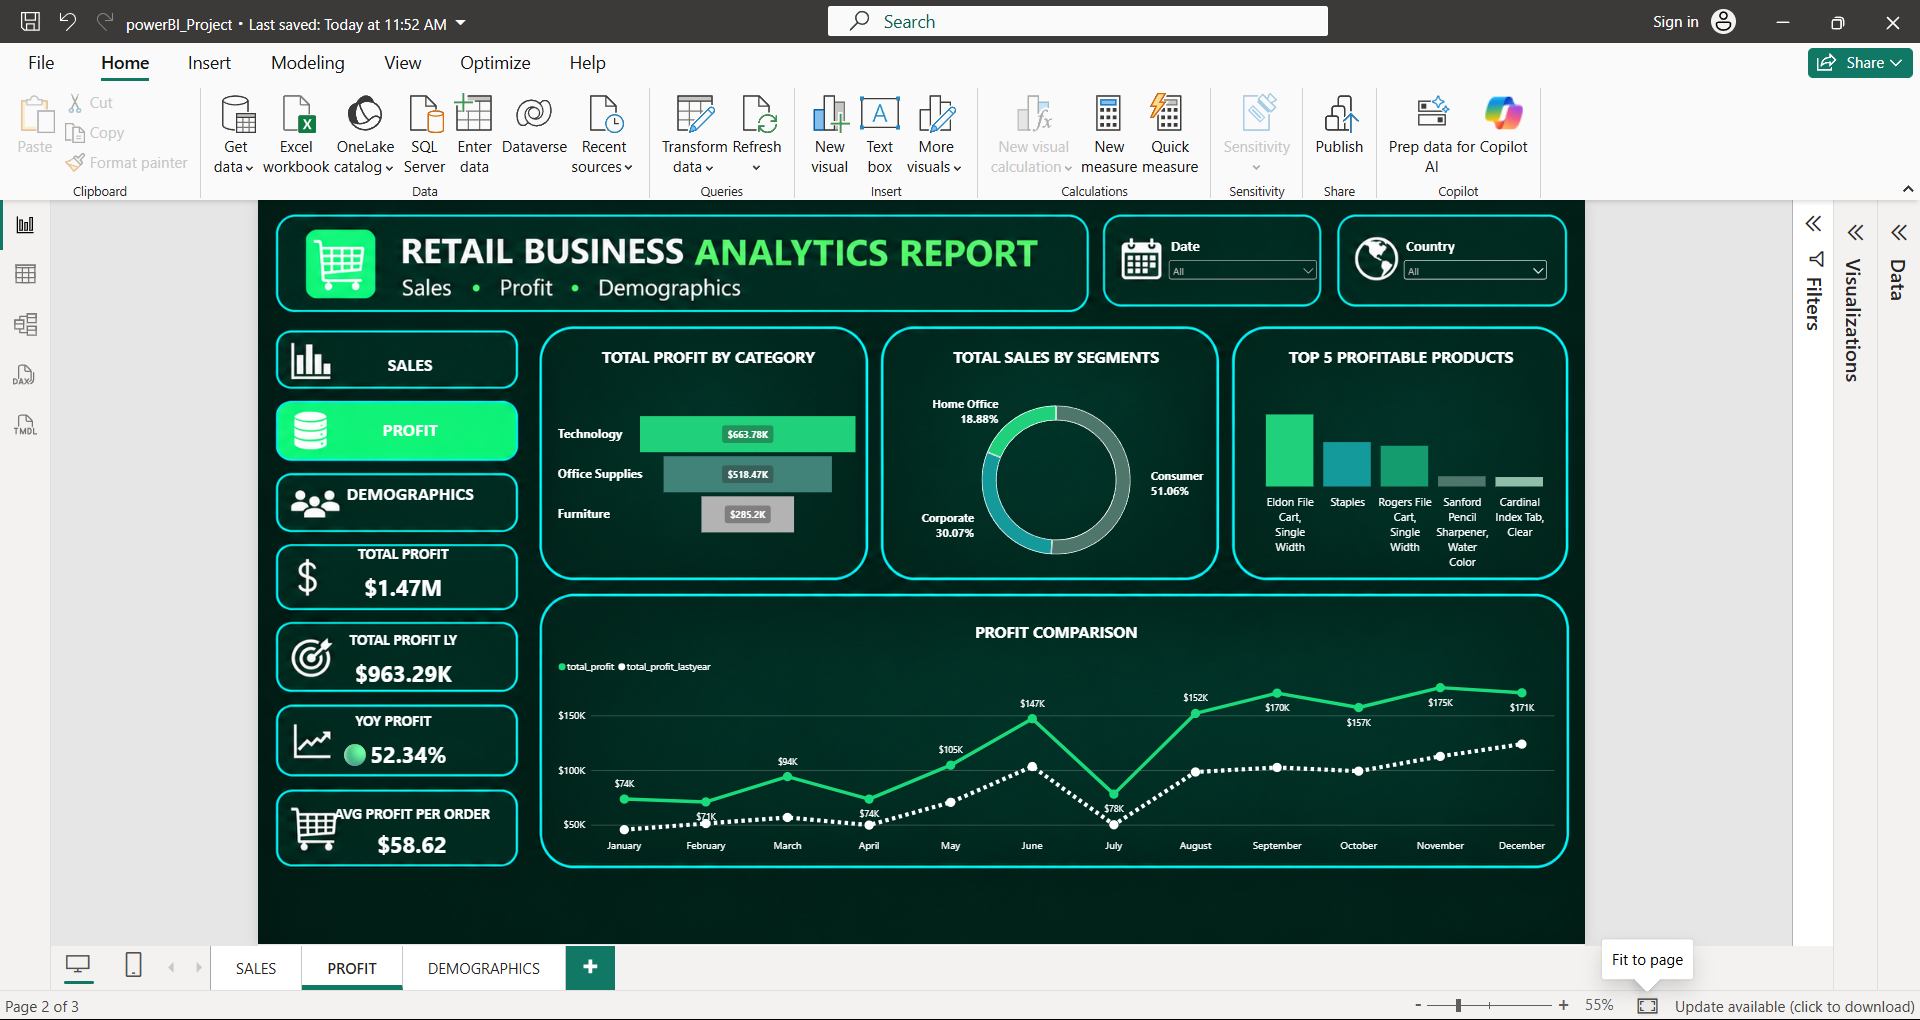

Layout of this report page (visuals, bound fields, positions):
{"tool":"powerbi","page":{"name":"PROFIT","canvas":[1920,1080],"ordinal":1},"visuals":[{"type":"slicer","fields":{"Values":["location_table.Country"]},"box":[1654,54.3,217.2,90.5],"z":0},{"type":"donutChart","title":"TOTAL SALES BY SEGMENTS","fields":{"Category":["customer_table.Segment"],"Y":["Calculated_Table.total_profit"]},"box":[930,198,450.6,371],"z":1000},{"type":"lineChart","title":"PROFIT COMPARISON","fields":{"Category":["date_table.Date.Variation.Date Hierarchy.Month"],"Y":["Calculated_Table.total_profit","Calculated_Table.total_profit_lastyear"]},"box":[417.5,595,1475,370],"z":2000},{"type":"funnel","title":"TOTAL PROFIT BY CATEGORY","fields":{"Category":["product_table.Category"],"Y":["Calculated_Table.total_profit"]},"box":[418,198,468,354],"z":3000},{"type":"ribbonChart","title":"TOP 5 PROFITABLE PRODUCTS","fields":{"Category":["product_table.Product Name"],"Y":["Calculated_Table.total_profit"]},"box":[1399.7,197.6,512.5,356.1],"z":4000},{"type":"card","title":"TOTAL PROFIT","fields":{"Values":["Calculated_Table.total_profit"]},"box":[46,484,330,112.5],"z":6000},{"type":"slicer","fields":{"Values":["date_table.year","date_table.month"]},"box":[1314,54,224.4,90.5],"z":7000},{"type":"textbox","box":[150,320,300,150],"z":8000},{"type":"pageNavigator","box":[52,198,336,272],"z":9000},{"type":"card","title":"AVG PROFIT PER ORDER","fields":{"Values":["Calculated_Table.average_profit_per_order"]},"box":[57.5,860,330,105],"z":10000},{"type":"card","title":"YOY PROFIT","fields":{"Values":["Calculated_Table.YOY_growth_profit"]},"box":[30,726,330,112.5],"z":11000},{"type":"card","title":"TOTAL PROFIT LY","fields":{"Values":["Calculated_Table.total_profit_lastyear"]},"box":[46,608,330,112.5],"z":12000}]}

Visuals, with their boxes on the page's 1920x1080 design canvas (x1, y1, x2, y2). These are canvas units, not pixel positions in the 1920x1020 screenshot, which may show the page scaled, cropped or inside an application window:
slicer - location_table.Country: 1654, 54, 1871, 145
"TOTAL SALES BY SEGMENTS" donutChart: 930, 198, 1381, 569
"PROFIT COMPARISON" lineChart: 418, 595, 1892, 965
"TOTAL PROFIT BY CATEGORY" funnel: 418, 198, 886, 552
"TOP 5 PROFITABLE PRODUCTS" ribbonChart: 1400, 198, 1912, 554
"TOTAL PROFIT" card: 46, 484, 376, 596
slicer - date_table.year x date_table.month: 1314, 54, 1538, 144
textbox: 150, 320, 450, 470
pageNavigator: 52, 198, 388, 470
"AVG PROFIT PER ORDER" card: 58, 860, 388, 965
"YOY PROFIT" card: 30, 726, 360, 838
"TOTAL PROFIT LY" card: 46, 608, 376, 720
